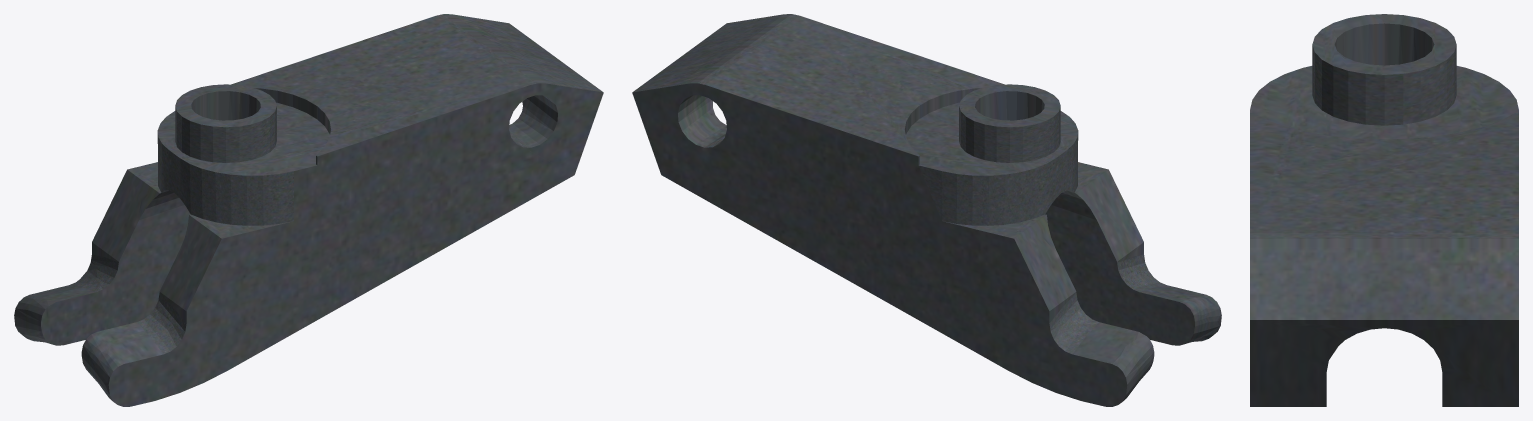
Rendered from Rear_Handguard_Clamp.dae.
The picture shows the model from 3 angles, left to right: view 1: azimuth 30°, elevation 25°; view 2: azimuth 150°, elevation 25°; view 3: azimuth 270°, elevation 25°; orthographic projection. The views are drawn at different scales.
Visible parts, largest first — view 1: Rear_Handguard_Clamp; view 2: Rear_Handguard_Clamp; view 3: Rear_Handguard_Clamp.
Boxes of the visible parts, x1,y1,x2,y2 form: Rear_Handguard_Clamp: (14, 14, 603, 406); Rear_Handguard_Clamp: (632, 14, 1221, 406); Rear_Handguard_Clamp: (1250, 14, 1518, 406).
Size of the model in its own units: 0.0323 by 0.0107 by 0.0145.
1 material, 1 textured.
